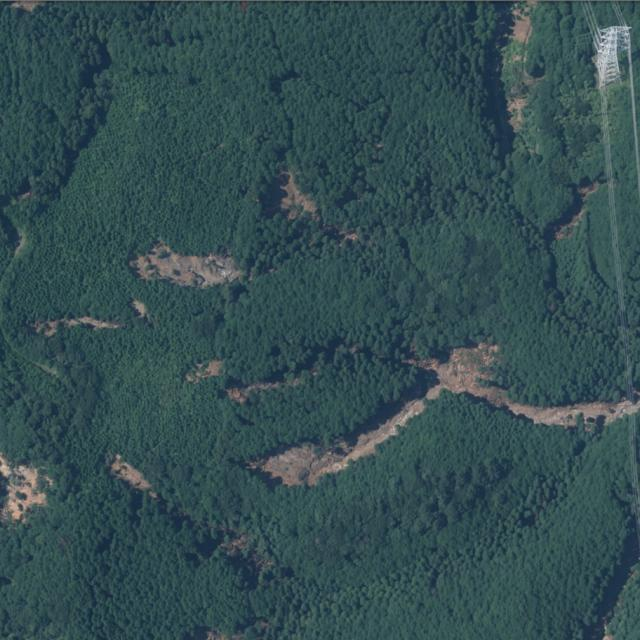landslide: (252, 343, 640, 486), (129, 241, 241, 289), (280, 172, 316, 219), (32, 317, 119, 336), (225, 382, 293, 404)
